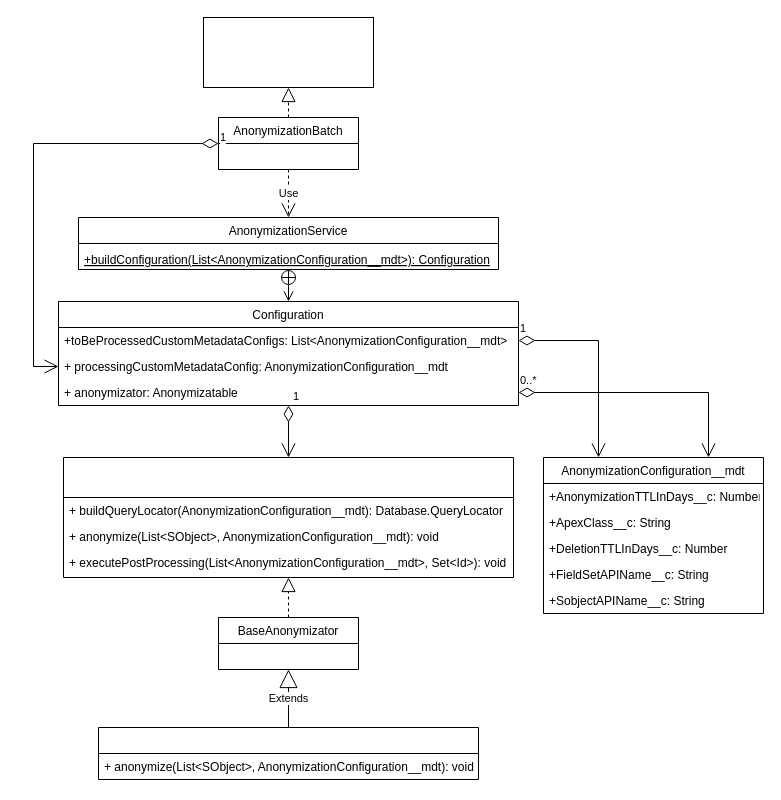
Some shapes in this 781 by 800 pixel diagram are drawn without their labels. The shapes that lost their labels are listed below. From the top down, each one's box as (x1, y1, x2, y2) in pixels, then its label:
(202, 16, 374, 88): «interface» Database.Batchable<sobject>, Database.Stateful, Schedulable
(62, 456, 514, 578): «interface» Anonymizatable
(98, 726, 478, 780): ContactsAnonymizator
